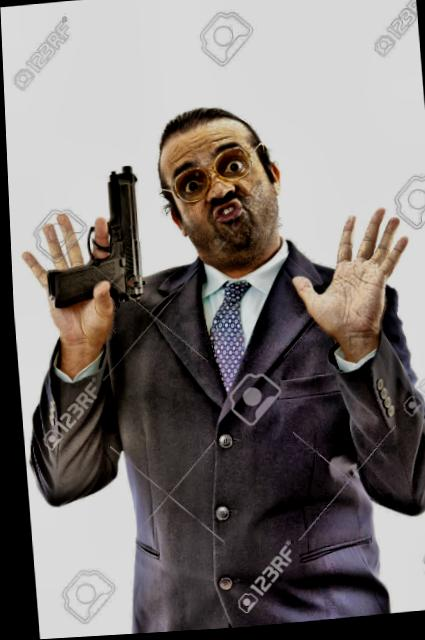pistol: (36, 165, 144, 315)
